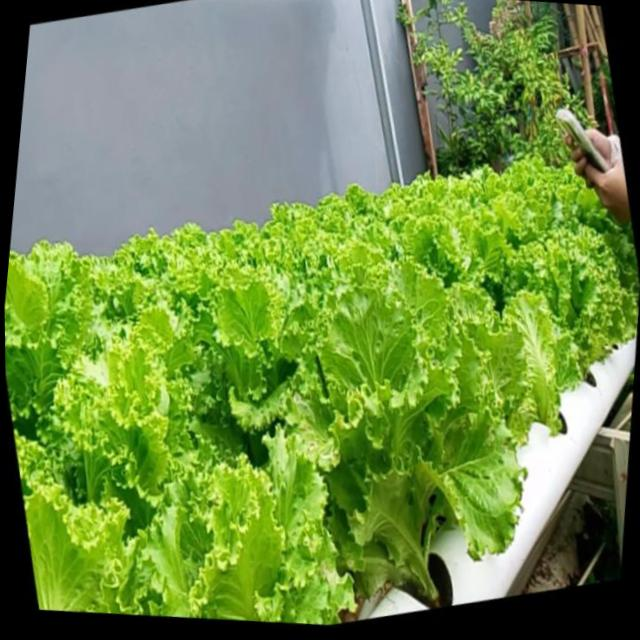Mature: (4, 161, 639, 624), (293, 299, 497, 595), (488, 204, 637, 423)
